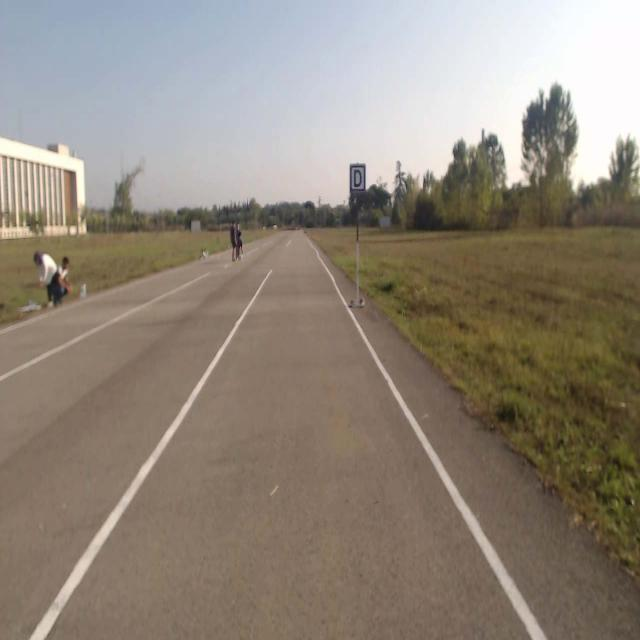durak: (350, 164, 366, 192)
